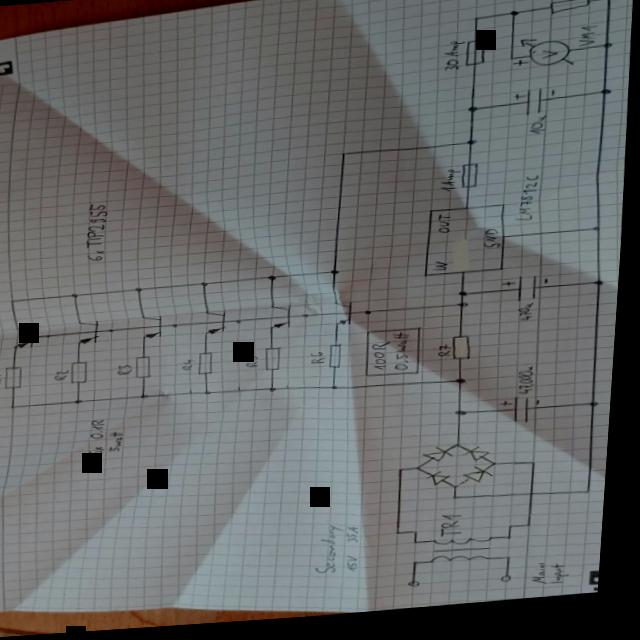capacitor: (500, 281, 551, 311), (510, 94, 558, 124), (501, 402, 545, 433)
crossover: (532, 500, 541, 505)
diode: (466, 473, 498, 493), (427, 452, 459, 470), (465, 452, 495, 471), (431, 476, 456, 493)
junction: (458, 415, 472, 424), (598, 96, 612, 105), (466, 112, 479, 120), (459, 297, 471, 305), (592, 234, 604, 242), (458, 385, 470, 392), (466, 146, 478, 153), (592, 410, 603, 417), (459, 308, 470, 315), (457, 449, 468, 456), (417, 472, 428, 479), (76, 400, 86, 407), (269, 279, 279, 286), (494, 468, 504, 475), (596, 289, 607, 295), (270, 391, 281, 397), (141, 396, 152, 402), (508, 18, 518, 24), (510, 542, 520, 548), (333, 390, 343, 396), (416, 567, 426, 573), (332, 274, 341, 280), (602, 4, 611, 10), (507, 63, 516, 69), (73, 294, 81, 300), (399, 536, 407, 542), (206, 394, 215, 399), (202, 285, 211, 290), (136, 290, 145, 295), (339, 157, 348, 162), (512, 532, 521, 537), (416, 547, 425, 552), (455, 491, 464, 496), (367, 315, 374, 321), (510, 563, 518, 568), (603, 52, 611, 57), (470, 23, 478, 28), (456, 502, 464, 507), (401, 474, 409, 479), (534, 469, 542, 474), (174, 326, 182, 331), (416, 537, 425, 541), (239, 322, 245, 328), (10, 300, 17, 305), (12, 406, 20, 410), (530, 532, 538, 536), (304, 319, 312, 323), (48, 335, 54, 340), (590, 499, 597, 503), (111, 331, 117, 335)
resistor: (547, 4, 590, 23), (454, 342, 475, 368), (266, 351, 286, 376), (137, 357, 156, 382), (329, 349, 347, 375), (7, 367, 26, 390), (199, 356, 218, 379), (72, 363, 91, 386)
terminal: (413, 587, 426, 594), (506, 583, 519, 590)
text: (319, 529, 351, 580), (513, 183, 543, 230), (84, 204, 113, 251), (394, 337, 415, 377), (441, 47, 463, 80), (517, 374, 539, 404), (373, 348, 393, 378), (444, 520, 469, 543), (553, 571, 576, 593), (536, 570, 557, 593), (441, 175, 461, 199), (577, 33, 598, 55), (482, 234, 502, 256), (91, 421, 111, 443), (519, 309, 538, 330), (529, 123, 548, 144), (112, 433, 129, 455), (438, 220, 454, 241), (350, 560, 366, 579), (351, 531, 367, 550), (86, 251, 109, 264), (311, 356, 329, 370), (246, 359, 263, 373), (118, 366, 136, 379), (439, 350, 455, 364), (91, 447, 109, 459), (56, 371, 72, 383), (434, 267, 451, 278), (546, 0, 570, 7), (184, 362, 197, 374), (0, 374, 7, 386)
transformer: (434, 541, 500, 573)
transistor: (271, 309, 296, 335), (334, 305, 357, 333), (207, 313, 230, 340), (80, 320, 103, 347), (143, 316, 166, 342), (16, 327, 39, 351)
